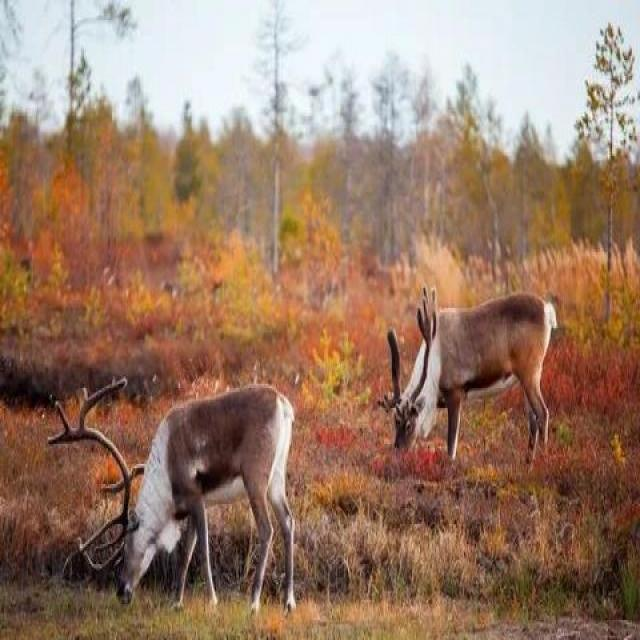deer: (23, 314, 280, 639), (356, 238, 588, 510)
